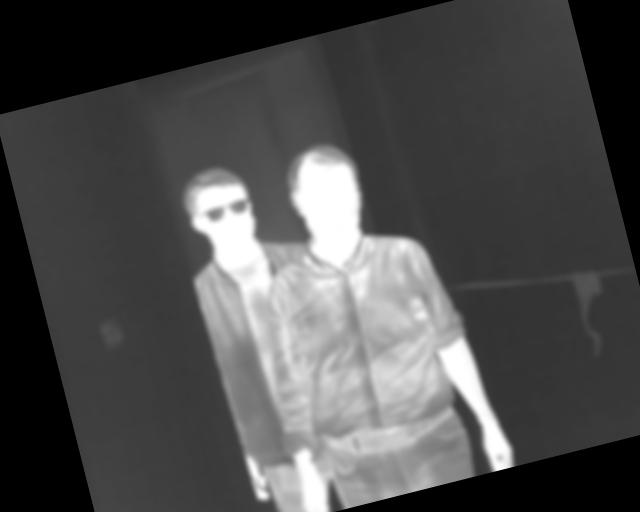face: (278, 136, 377, 255), (178, 159, 264, 260)
